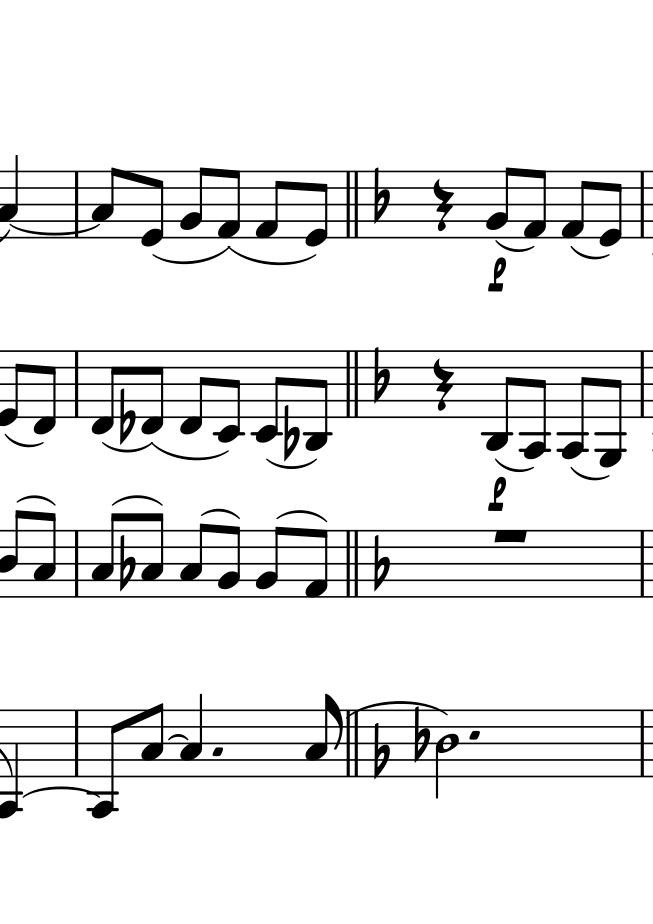2_4: (435, 713, 460, 797)
4_2: (179, 693, 205, 778)
8_-1: (89, 348, 121, 436), (179, 349, 210, 436), (33, 350, 60, 437), (141, 349, 167, 436)
8_-2: (251, 348, 286, 443), (215, 350, 244, 442)
8_-3: (482, 350, 516, 454), (304, 350, 330, 453)
8_-4: (88, 707, 122, 822), (559, 346, 592, 463), (519, 350, 549, 460)
8_-5: (596, 348, 626, 470)
8_0: (303, 170, 331, 250), (138, 170, 166, 249), (598, 170, 624, 250), (2, 350, 26, 427)
8_1: (560, 169, 592, 242), (254, 170, 286, 239), (303, 528, 330, 601), (522, 168, 548, 242), (217, 168, 242, 243)
8_2: (254, 525, 287, 599), (484, 166, 516, 239), (178, 165, 209, 239), (217, 524, 241, 600)
8_3: (303, 693, 342, 781), (90, 513, 118, 598), (179, 522, 209, 599), (91, 165, 121, 239), (32, 512, 57, 599), (140, 512, 165, 598), (140, 701, 164, 778)
8_4: (1, 509, 25, 599)
Double_barline: (342, 169, 365, 238), (341, 350, 365, 416), (342, 708, 363, 777), (343, 528, 363, 600)
Flat: (371, 166, 391, 225), (371, 346, 391, 404), (371, 533, 390, 594), (117, 533, 136, 593), (372, 721, 391, 780), (412, 706, 431, 763), (117, 388, 134, 446), (282, 404, 299, 461)
Rests1: (490, 526, 529, 545)
Rests4: (431, 357, 455, 413), (431, 177, 455, 232)
Single_barline: (634, 169, 653, 240), (634, 351, 651, 419), (69, 352, 85, 417), (636, 710, 651, 777), (68, 531, 83, 596), (69, 711, 84, 775), (636, 530, 649, 599), (70, 169, 82, 235)
Slur: (229, 247, 320, 265), (350, 700, 450, 716), (152, 248, 230, 266), (152, 443, 230, 461), (21, 786, 103, 800), (9, 222, 103, 234), (275, 508, 330, 523), (111, 493, 165, 508), (267, 457, 321, 470), (99, 441, 152, 454), (570, 244, 608, 260), (5, 432, 43, 448), (571, 465, 609, 480), (496, 456, 533, 471), (16, 494, 54, 507), (201, 507, 238, 520), (497, 239, 533, 252), (167, 733, 191, 742)
dot: (467, 727, 482, 742), (209, 744, 225, 758)
p: (486, 256, 509, 294), (487, 476, 510, 512)
